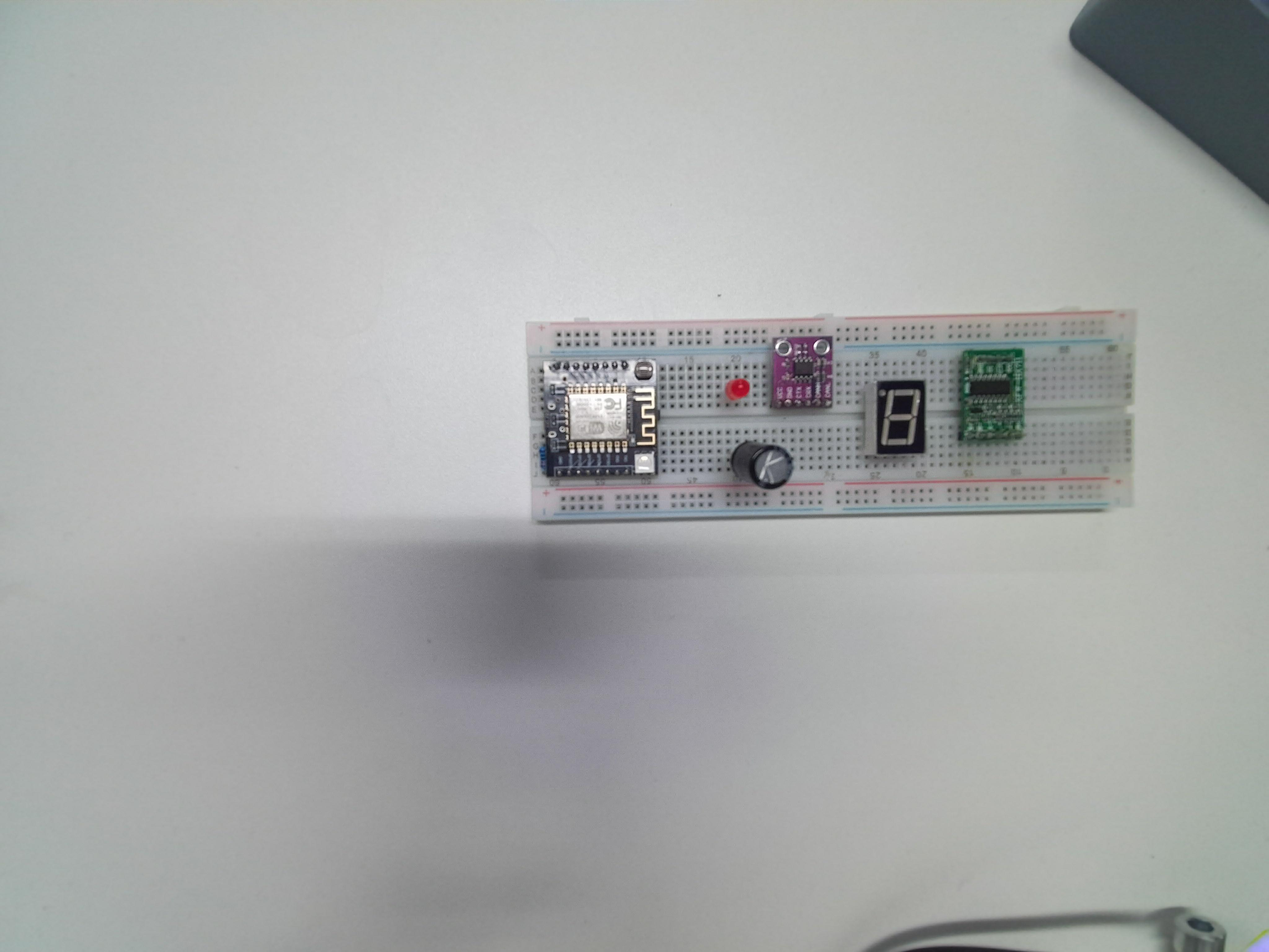base: (522, 310, 1140, 528)
capacitor: (731, 440, 792, 489)
digit-board: (872, 379, 928, 456)
esp: (539, 356, 661, 482)
green-board: (957, 346, 1025, 447)
purple-board: (770, 333, 834, 411)
red-led: (726, 378, 751, 399)
